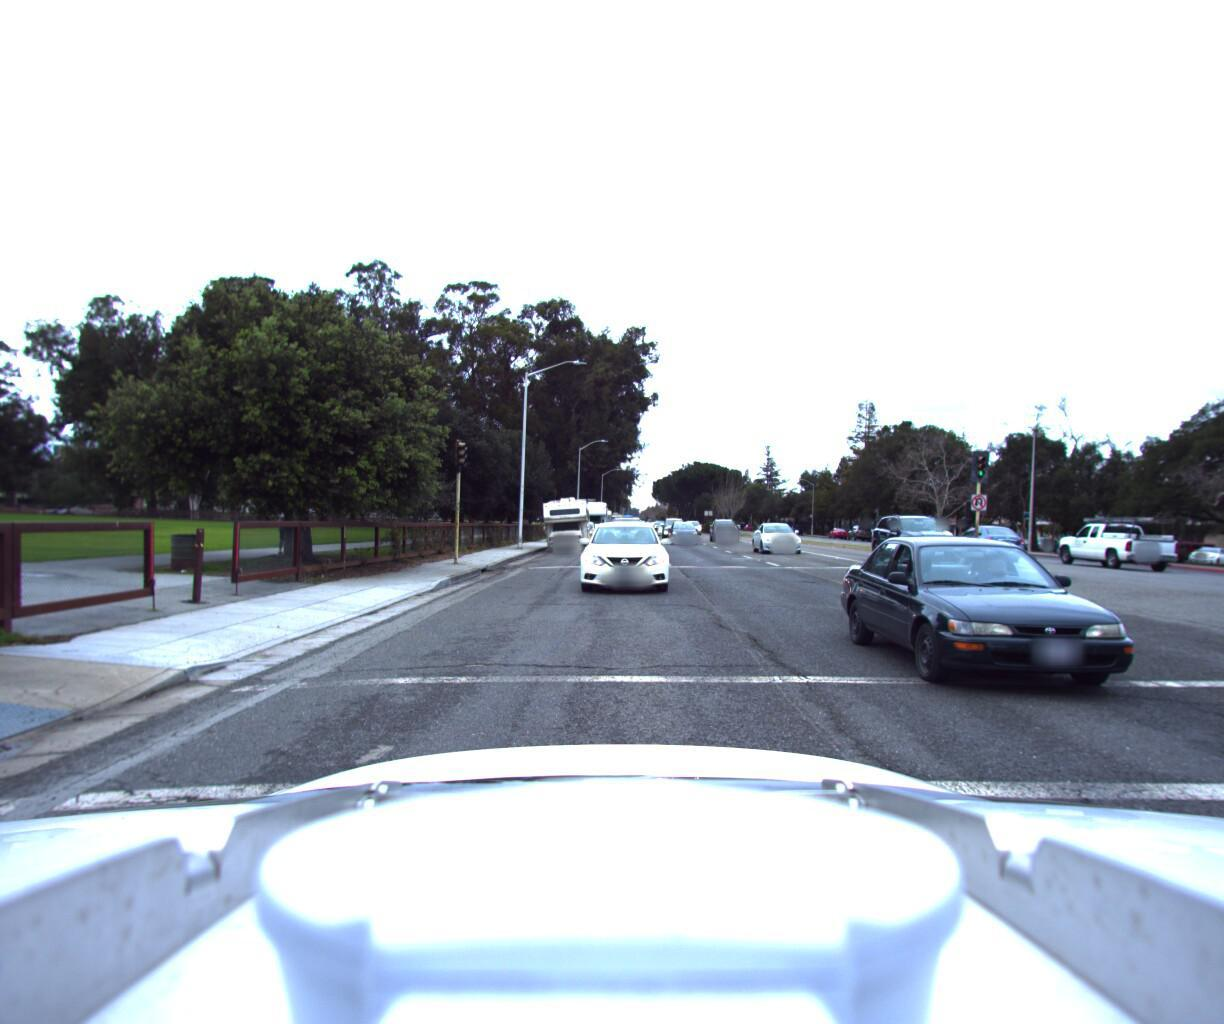car: (868, 534, 1224, 744), (572, 522, 677, 606), (1036, 524, 1167, 580), (866, 520, 965, 577), (939, 528, 1017, 565), (756, 527, 809, 564), (666, 528, 700, 555), (710, 531, 738, 558)
other_vehicle: (538, 504, 593, 563), (571, 509, 610, 552)
